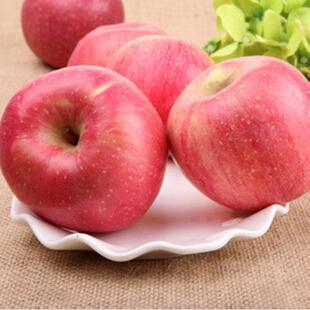apple: (1, 65, 169, 234), (167, 54, 310, 210), (19, 1, 125, 66)
